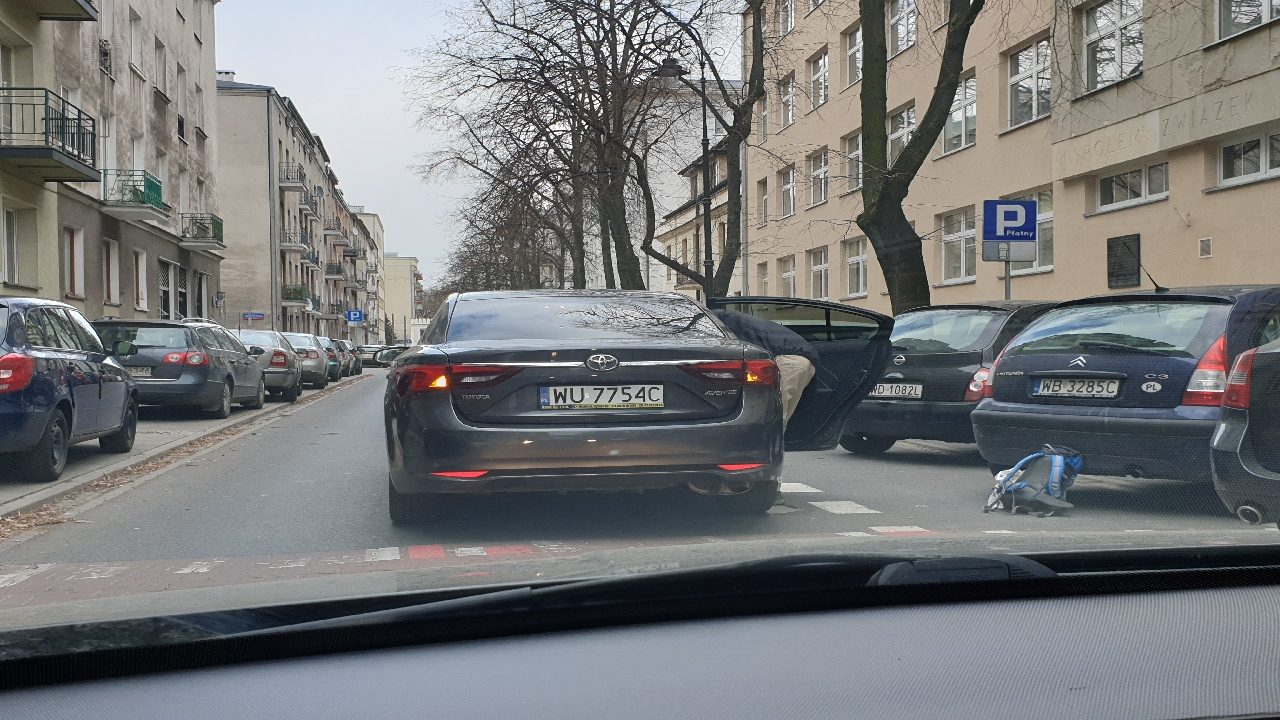D18: (980, 201, 1040, 245)
